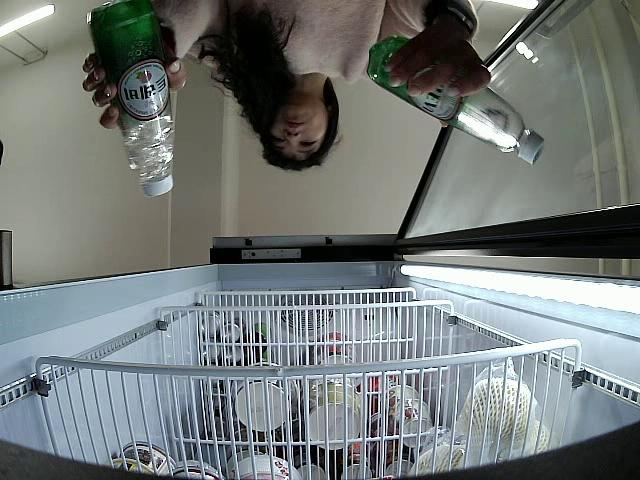00_hand: (384, 16, 491, 99), (84, 51, 189, 129)
18_trevi: (364, 37, 546, 164), (85, 0, 175, 199)
